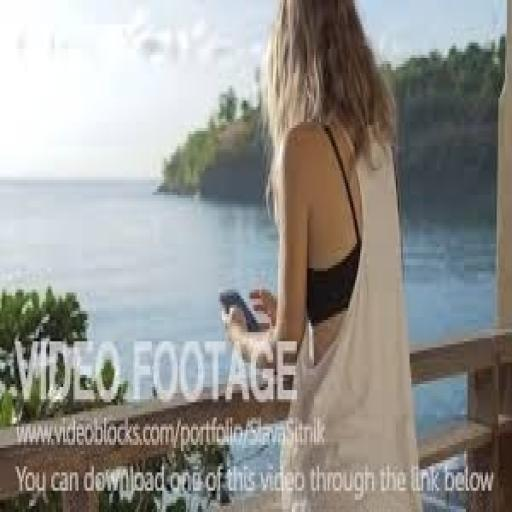texting: (217, 0, 425, 509)
